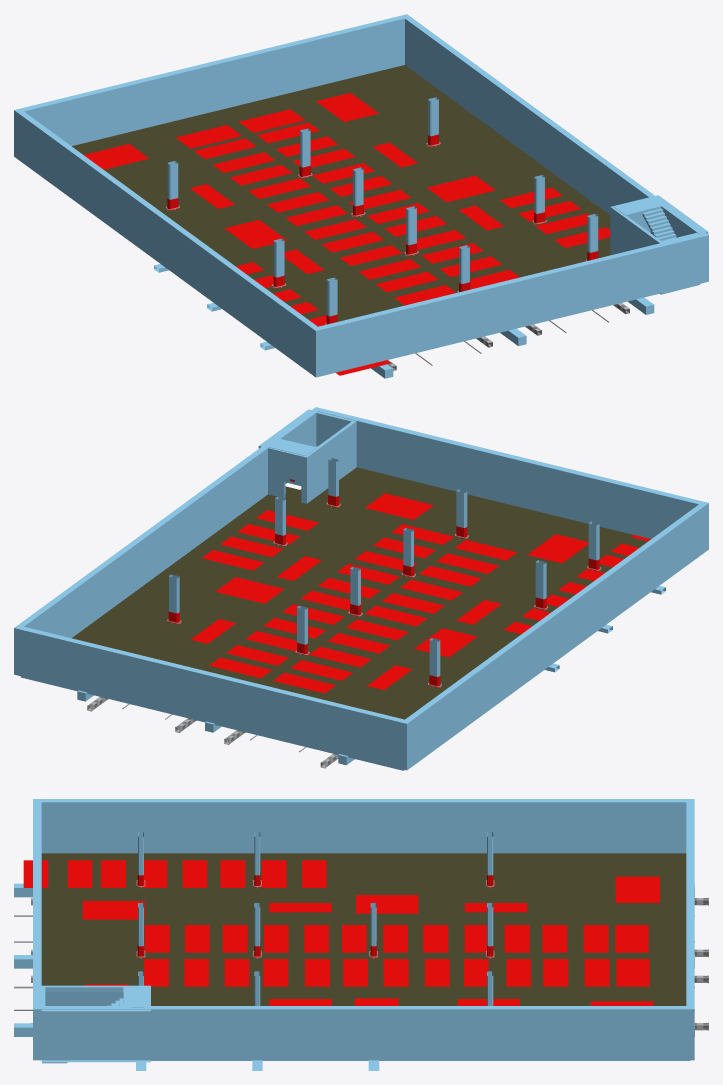
The model's file is Bottom floor.FBX.
3 views of the same model, one above another, from view 1: azimuth 30°, elevation 25°; view 2: azimuth 150°, elevation 25°; view 3: azimuth 270°, elevation 25° (orthographic). The views are drawn at different scales.
Visible parts, largest first — view 1: Box011; view 2: Box011; view 3: Box011.
Boxes of the visible parts, x1=… form: Box011: x1=14, y1=14, x2=708, y2=378; Box011: x1=14, y1=407, x2=708, y2=770; Box011: x1=14, y1=799, x2=708, y2=1070.
Bounding box in the file's own units: 0.6142 × 0.8354 × 0.0848.
